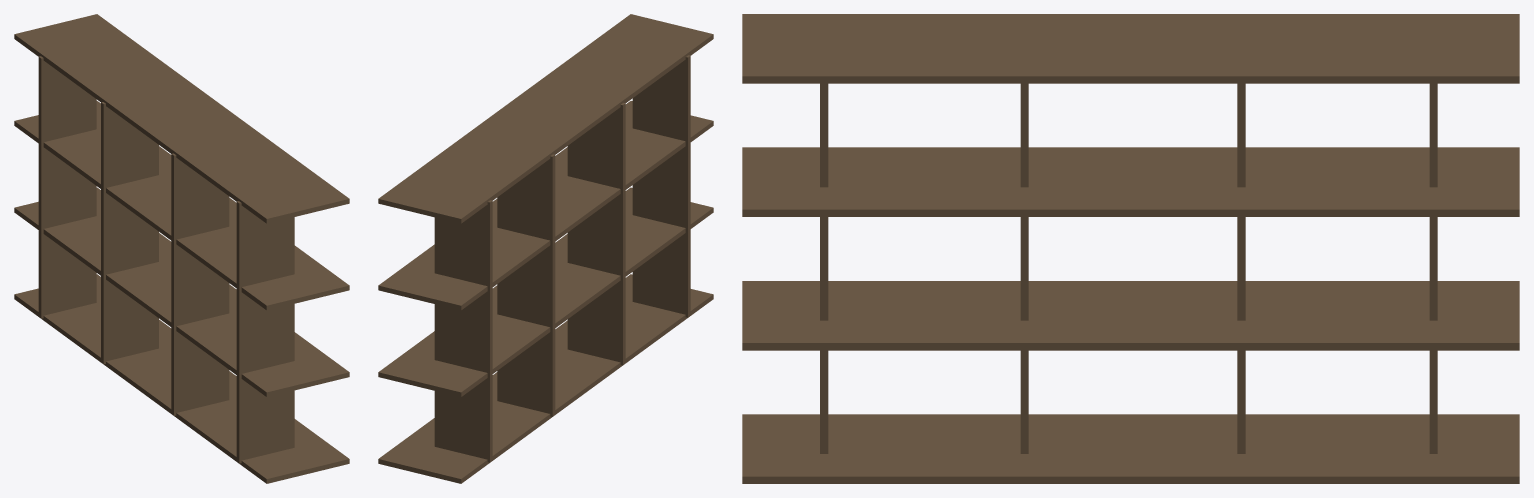
The model's file is air.glb.
3 views of the same model, side by side, from view 1: azimuth 30°, elevation 25°; view 2: azimuth 150°, elevation 25°; view 3: azimuth 270°, elevation 25° (orthographic). The views are drawn at different scales.
Parts seen in each view (by area): view 1: Cube.002, Cube.006, Cube, Cube.003, Cube.001, Cube.005, Cube.007, Cube.008; view 2: Cube.002, Cube.005, Cube, Cube.001, Cube.003, Cube.008, Cube.007, Cube.006; view 3: Cube.002, Cube.001, Cube, Cube.003, Cube.008, Cube.005, Cube.006, Cube.007.
Boxes of the visible parts, left/top/right/bottom form: Cube.002: left=14, top=14, right=349, bottom=223; Cube.006: left=236, top=201, right=294, bottom=463; Cube: left=14, top=274, right=349, bottom=483; Cube.003: left=14, top=101, right=349, bottom=310; Cube.001: left=14, top=187, right=349, bottom=396; Cube.005: left=38, top=56, right=96, bottom=318; Cube.007: left=171, top=153, right=229, bottom=415; Cube.008: left=101, top=102, right=158, bottom=364; Cube.002: left=378, top=14, right=713, bottom=223; Cube.005: left=434, top=200, right=492, bottom=462; Cube: left=378, top=274, right=713, bottom=483; Cube.001: left=378, top=187, right=713, bottom=396; Cube.003: left=378, top=101, right=713, bottom=310; Cube.008: left=497, top=154, right=555, bottom=416; Cube.007: left=567, top=103, right=625, bottom=365; Cube.006: left=632, top=55, right=690, bottom=317; Cube.002: left=742, top=14, right=1519, bottom=83; Cube.001: left=742, top=281, right=1519, bottom=350; Cube: left=742, top=414, right=1519, bottom=483; Cube.003: left=742, top=147, right=1519, bottom=216; Cube.008: left=1237, top=83, right=1245, bottom=453; Cube.005: left=1429, top=83, right=1437, bottom=453; Cube.006: left=820, top=83, right=828, bottom=453; Cube.007: left=1020, top=83, right=1028, bottom=453.
Size of the model in its own units: 0.37 by 1.1 by 1.9.
